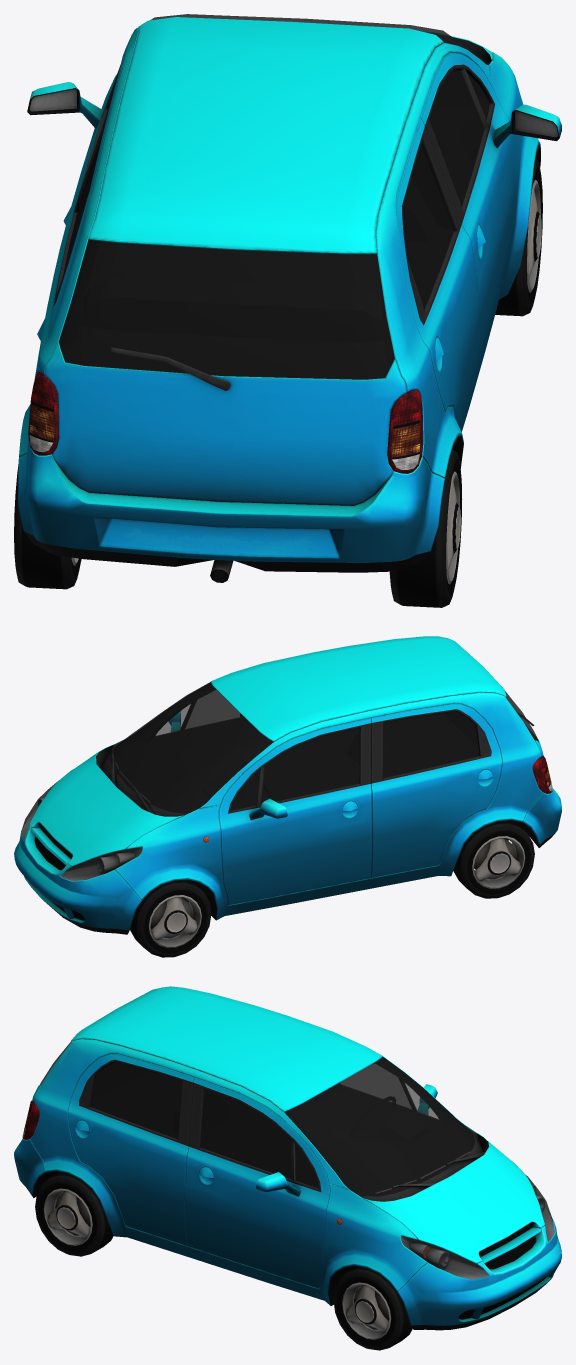
File: Hatch.FBX
3 renders of one model, top to bottom at view 1: azimuth 30°, elevation 25°; view 2: azimuth 150°, elevation 25°; view 3: azimuth 270°, elevation 25°, orthographic. The views are drawn at different scales.
Parts seen in each view (by area): view 1: Compact Body, Wheel_C002, Wheel_C003, Wheel_C001; view 2: Compact Body, Wheel_C, Wheel_C001; view 3: Compact Body, Wheel_C003, Wheel_C002.
Boxes of the visible parts, x1,y1,x2,y2 form: Compact Body: (18, 14, 561, 582); Wheel_C002: (389, 449, 462, 607); Wheel_C003: (495, 159, 542, 316); Wheel_C001: (14, 464, 81, 589); Compact Body: (14, 636, 561, 934); Wheel_C: (130, 879, 211, 957); Wheel_C001: (453, 820, 534, 898); Compact Body: (14, 986, 561, 1330); Wheel_C003: (333, 1266, 412, 1350); Wheel_C002: (35, 1172, 113, 1256).
Bounding box in the file's own units: 118 × 58.26 × 136.
